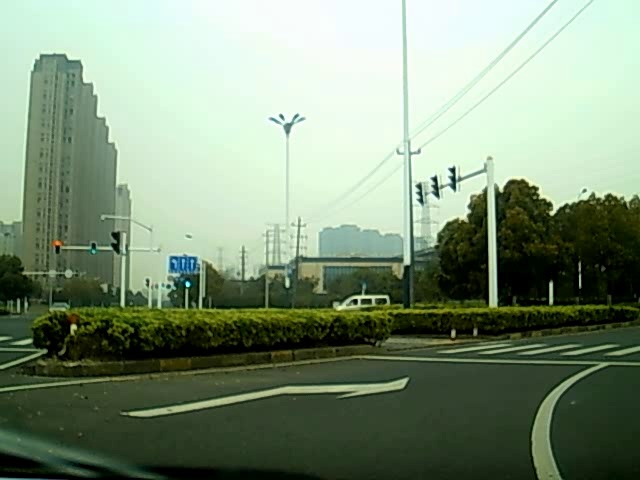Traffic_Light_go: (183, 277, 191, 290), (90, 243, 97, 257)
Traffic_Light_stop: (54, 239, 61, 256)
